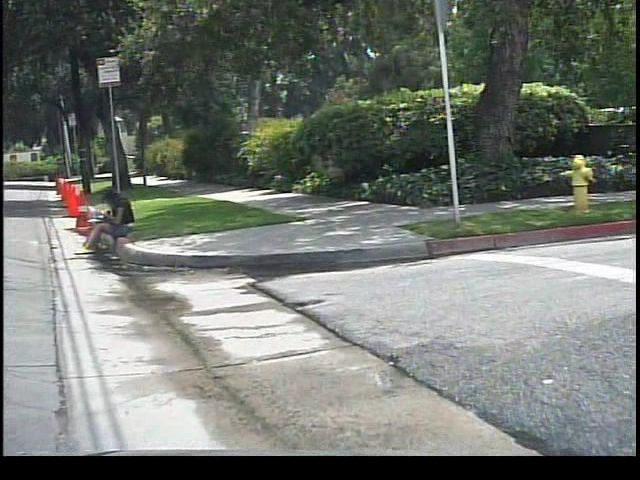person: (75, 184, 141, 257)
